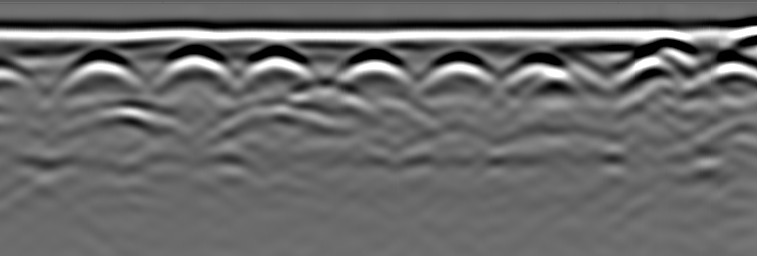pipe: (709, 31, 756, 55)
steel: (161, 47, 227, 86), (71, 51, 130, 90), (427, 51, 493, 84), (248, 50, 307, 83), (344, 51, 400, 84), (513, 53, 568, 83), (623, 57, 677, 78)
